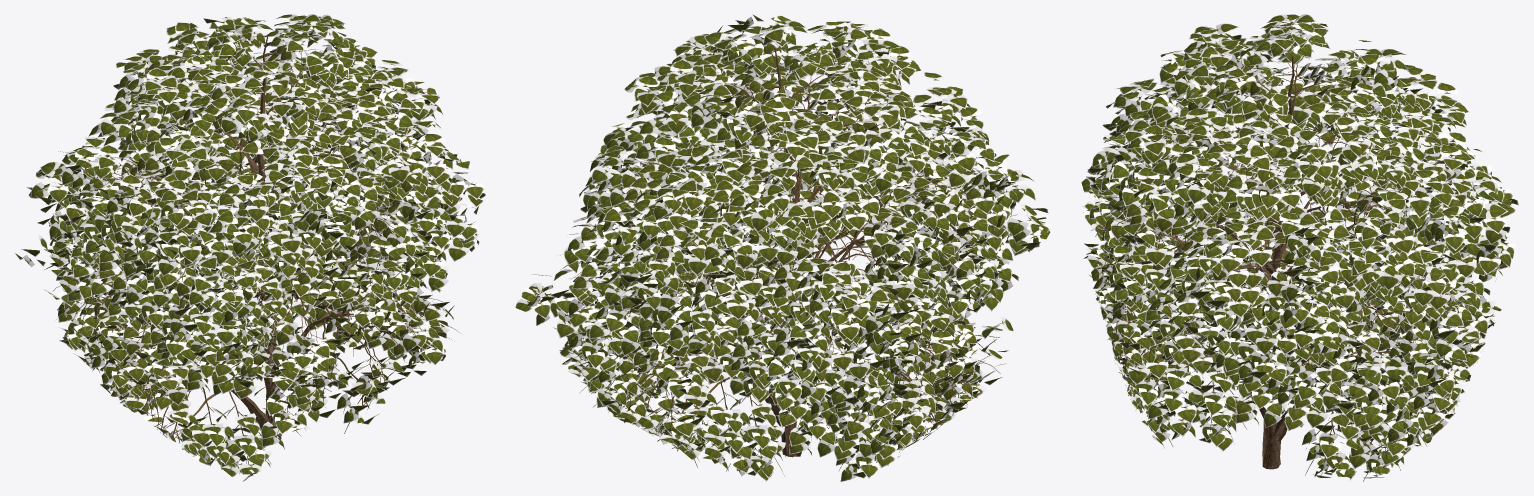
File: Bush.glb
3 renders of one model, left to right at view 1: azimuth 30°, elevation 25°; view 2: azimuth 150°, elevation 25°; view 3: azimuth 270°, elevation 25°, orthographic. The views are drawn at different scales.
Parts seen in each view (by area): view 1: Tree; view 2: Tree; view 3: Tree.
Part boxes in pixels (x1=…): Tree: x1=15, y1=14, x2=485, y2=481; Tree: x1=515, y1=14, x2=1052, y2=481; Tree: x1=1081, y1=14, x2=1519, y2=481.
Size of the model in its own units: 3.68 by 4.24 by 3.94.
Materials: 5 (5 with a texture image).
